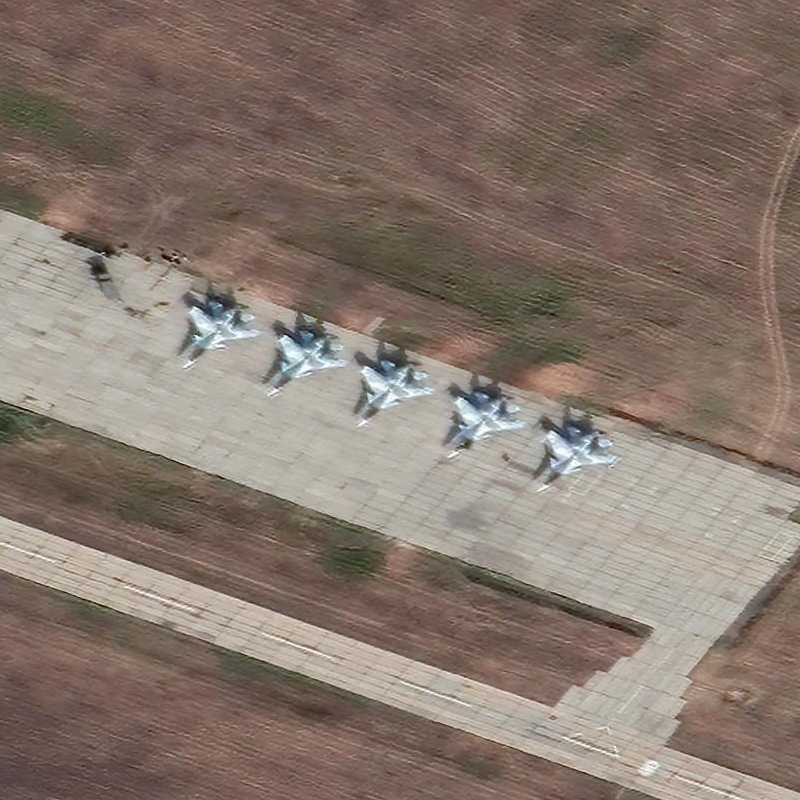A19: (533, 421, 625, 496), (177, 297, 264, 371), (443, 387, 528, 462), (263, 326, 350, 399), (351, 358, 437, 431)
